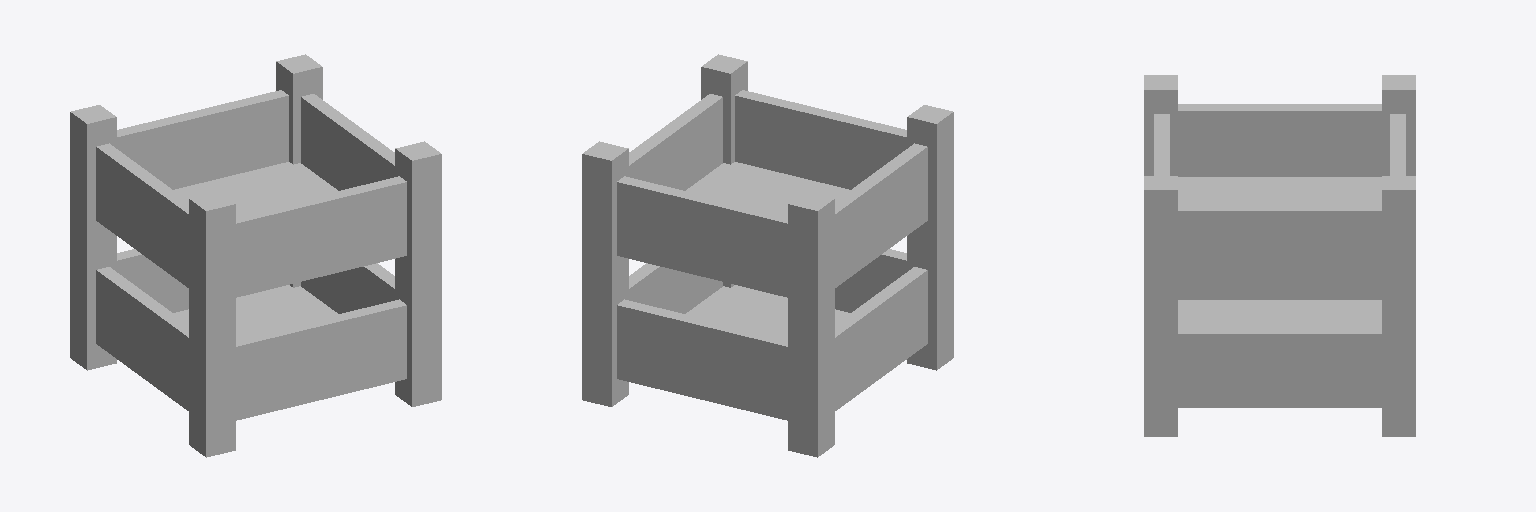
File: cellar_shelf.obj
3 views of the same model, side by side, from view 1: azimuth 30°, elevation 25°; view 2: azimuth 150°, elevation 25°; view 3: azimuth 270°, elevation 25° (orthographic).
Parts seen in each view (by area): view 1: Cube.006_Cube.014; view 2: Cube.006_Cube.014; view 3: Cube.006_Cube.014.
Part boxes in pixels (left/top/right/bottom): Cube.006_Cube.014: left=70, top=54, right=441, bottom=457; Cube.006_Cube.014: left=582, top=54, right=953, bottom=457; Cube.006_Cube.014: left=1144, top=75, right=1415, bottom=436.
Size of the model in its own units: 1 by 1 by 1.